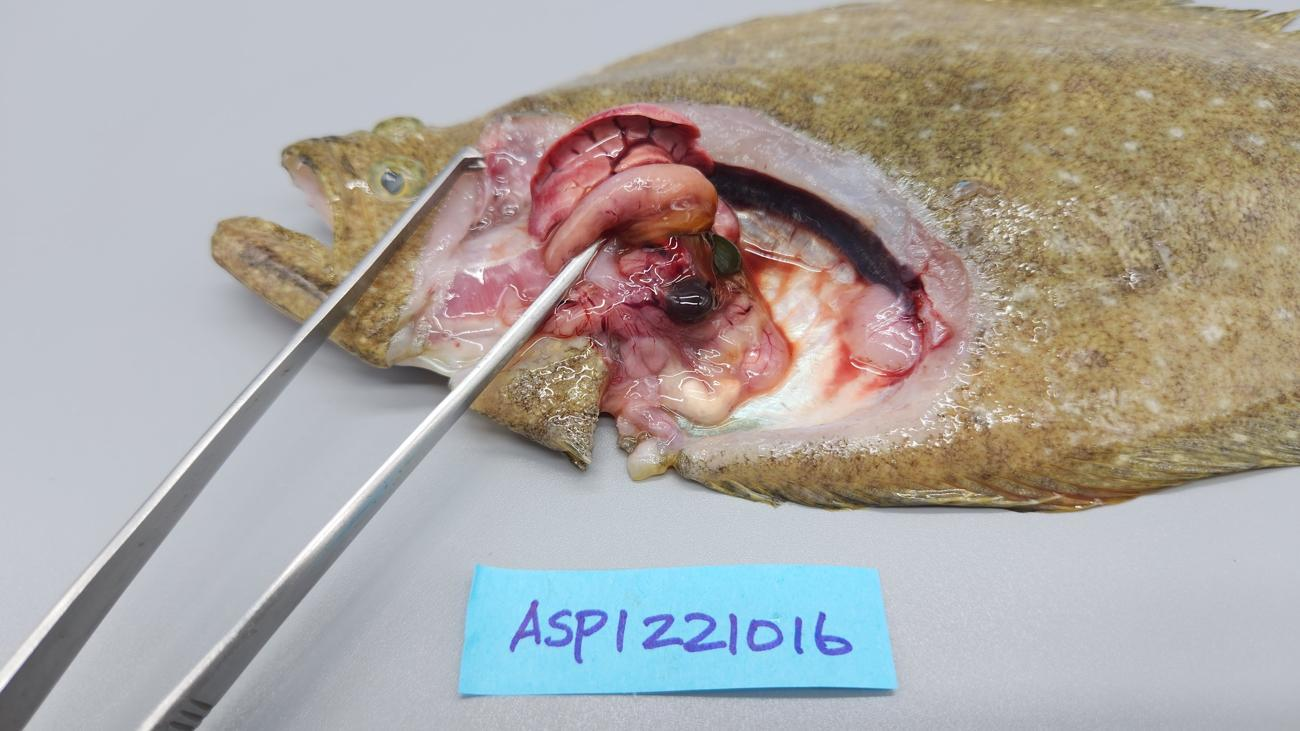SPINH: (587, 188, 663, 232)
SPINI: (545, 200, 605, 272)
